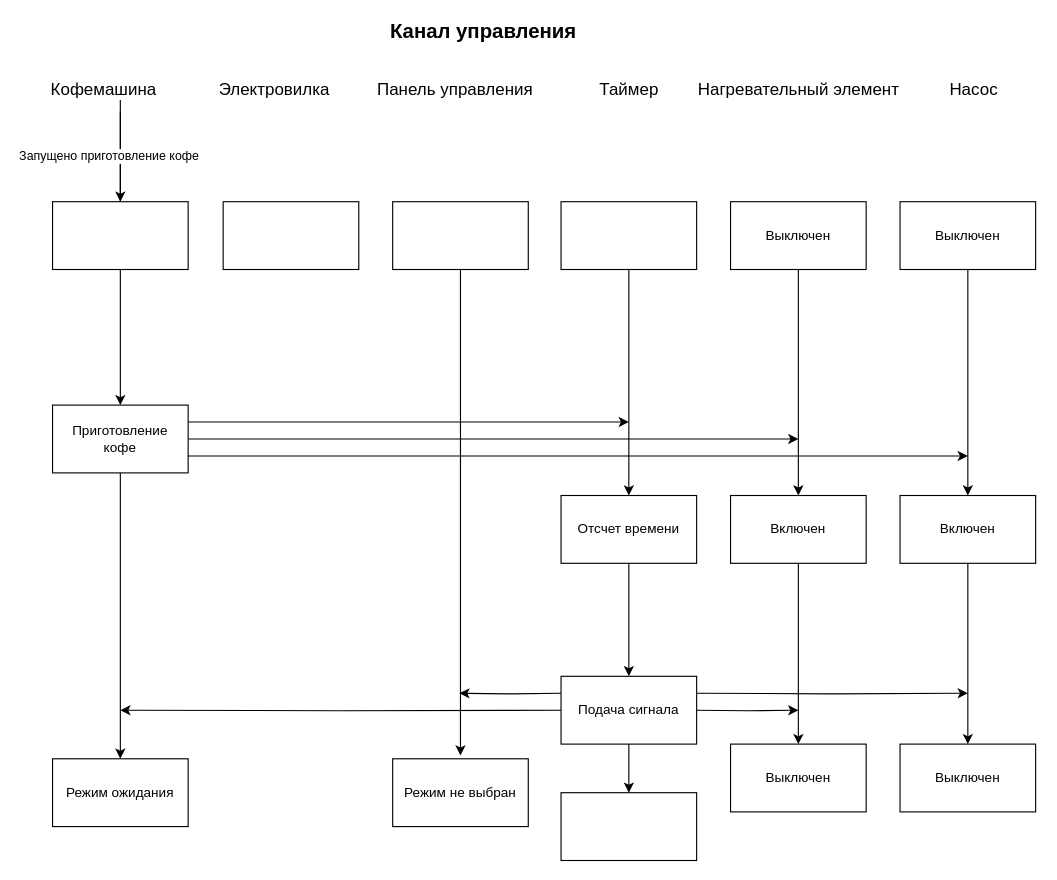
Image size: 1057x880. Some labels were removed from this diagram. Each missing label, with the centre of its shape:
Включена: (x=290, y=235)
Готова к запуску: (x=119, y=235)
Режим выбран: (x=460, y=235)
Сброшен: (x=628, y=826)
Установлен: (x=628, y=235)
